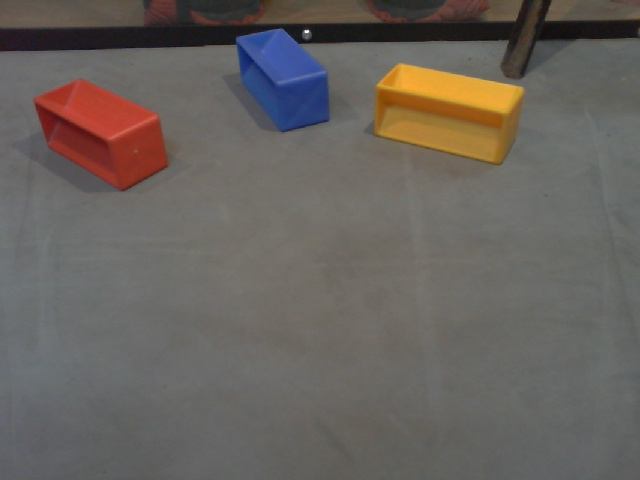BlueSample: (233, 26, 335, 139)
RedSample: (27, 74, 169, 192)
YellowSample: (368, 58, 526, 170)
